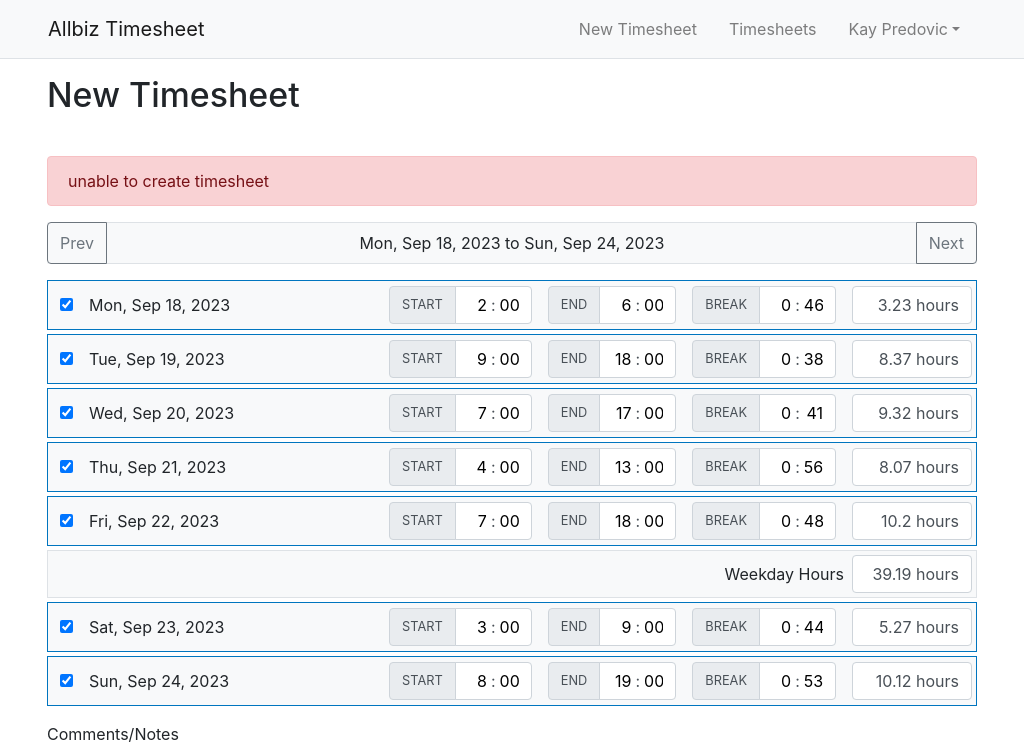
it: updates the user's default shifts and shows a confirmation message
Expected: the heading reads "New Timesheet", [47,74,300,115]
Click the checkbox with test id "shift-0-toggle": (66,305) [60,298,73,311]
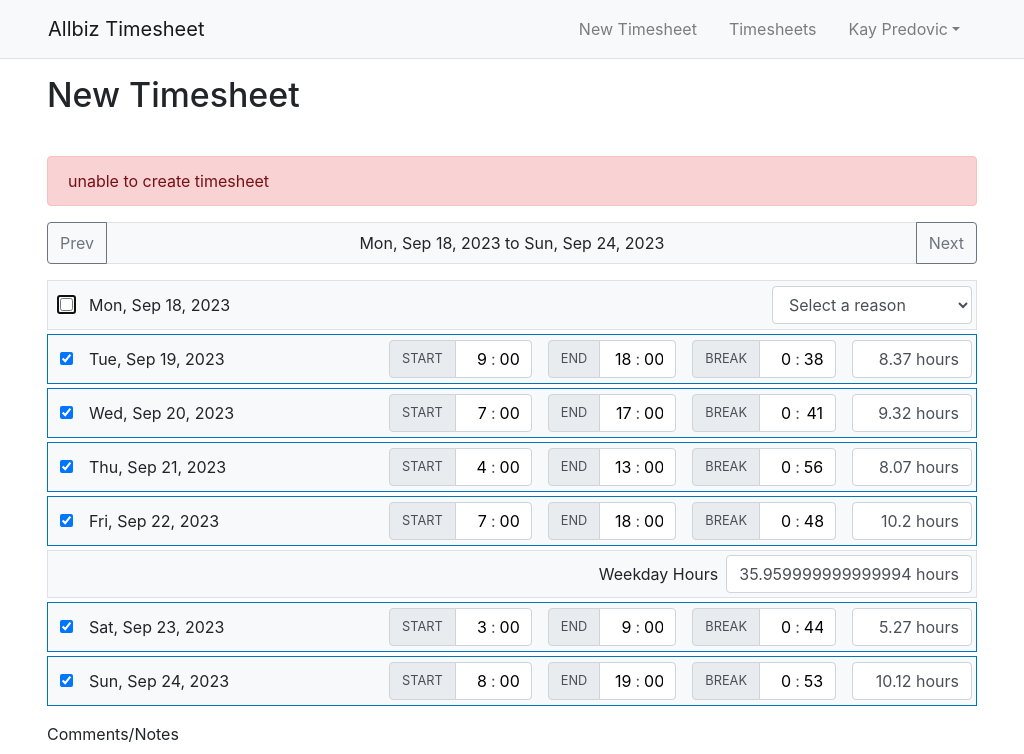
Select "Rostered day off" in the dropdown with test id "shift-0-reason": (872,305) [772,286,972,324]
(page scrolled)
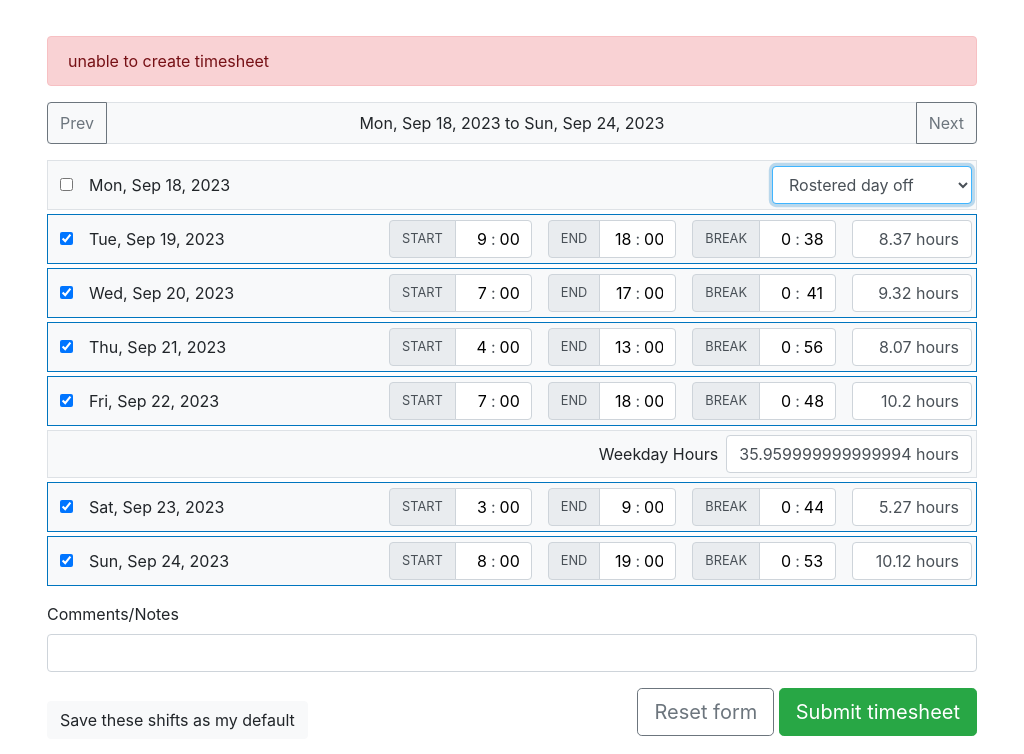
Click the button "Save these shifts as my default": (177,720) [47,701,308,739]
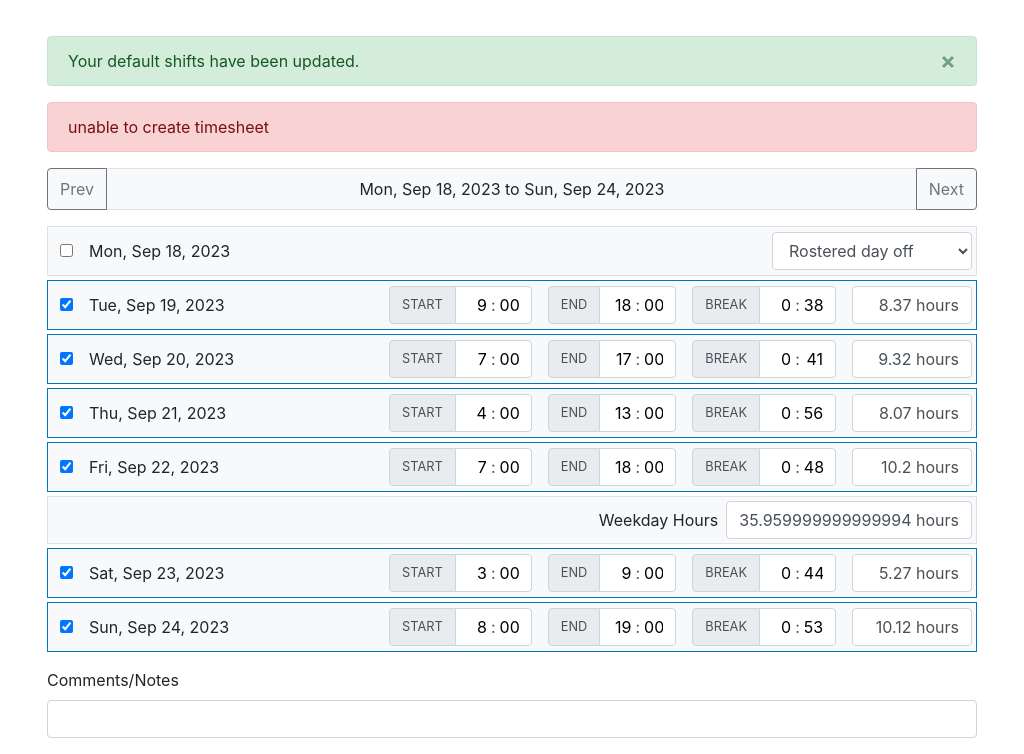
Expected: the text "× Your default shifts have been updated." is shown, [47,36,977,86]
